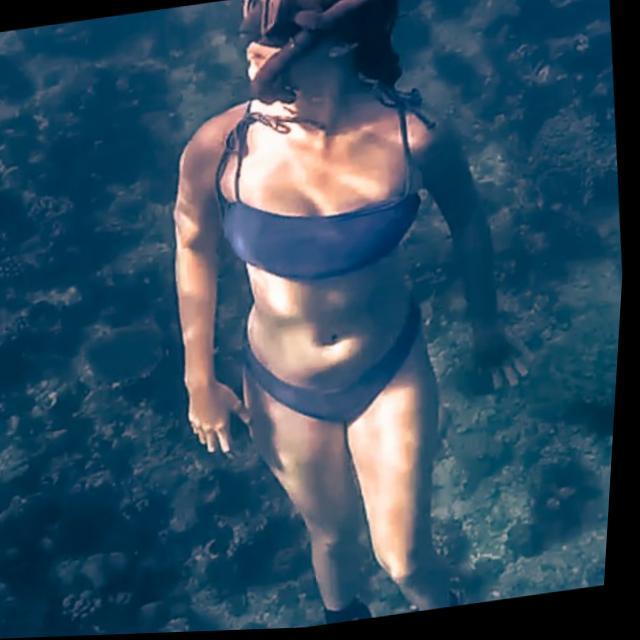human: (36, 0, 596, 638)
